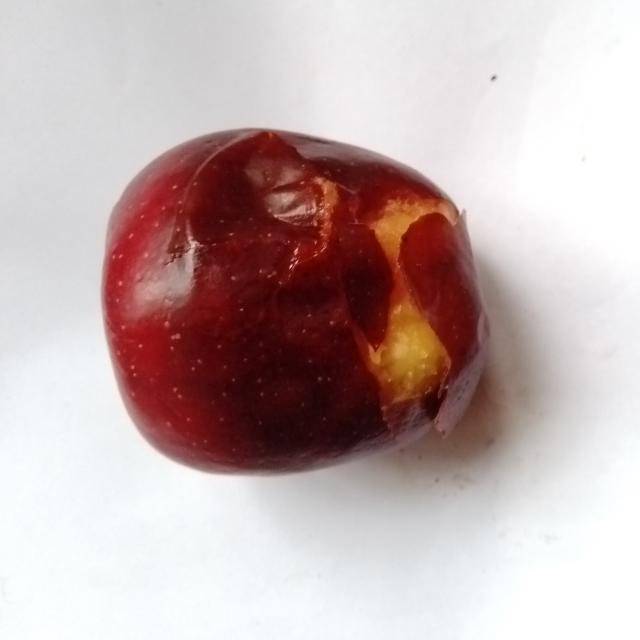apple: (104, 130, 487, 472)
